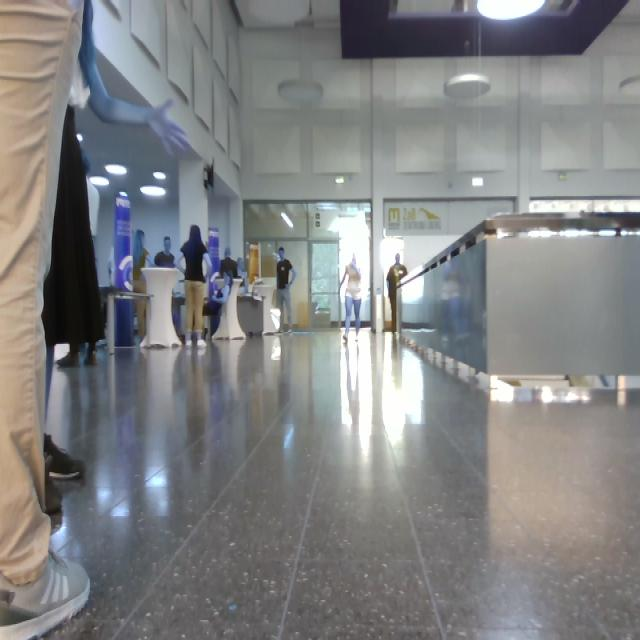door: (245, 202, 370, 326)
light bulb: (445, 74, 491, 100), (141, 186, 166, 197), (282, 212, 293, 229)
person: (1, 1, 189, 640), (1, 1, 189, 589), (342, 254, 361, 342), (277, 248, 296, 332), (387, 253, 407, 332)
staircase: (401, 213, 640, 405)
tiled floor: (50, 332, 640, 640)
